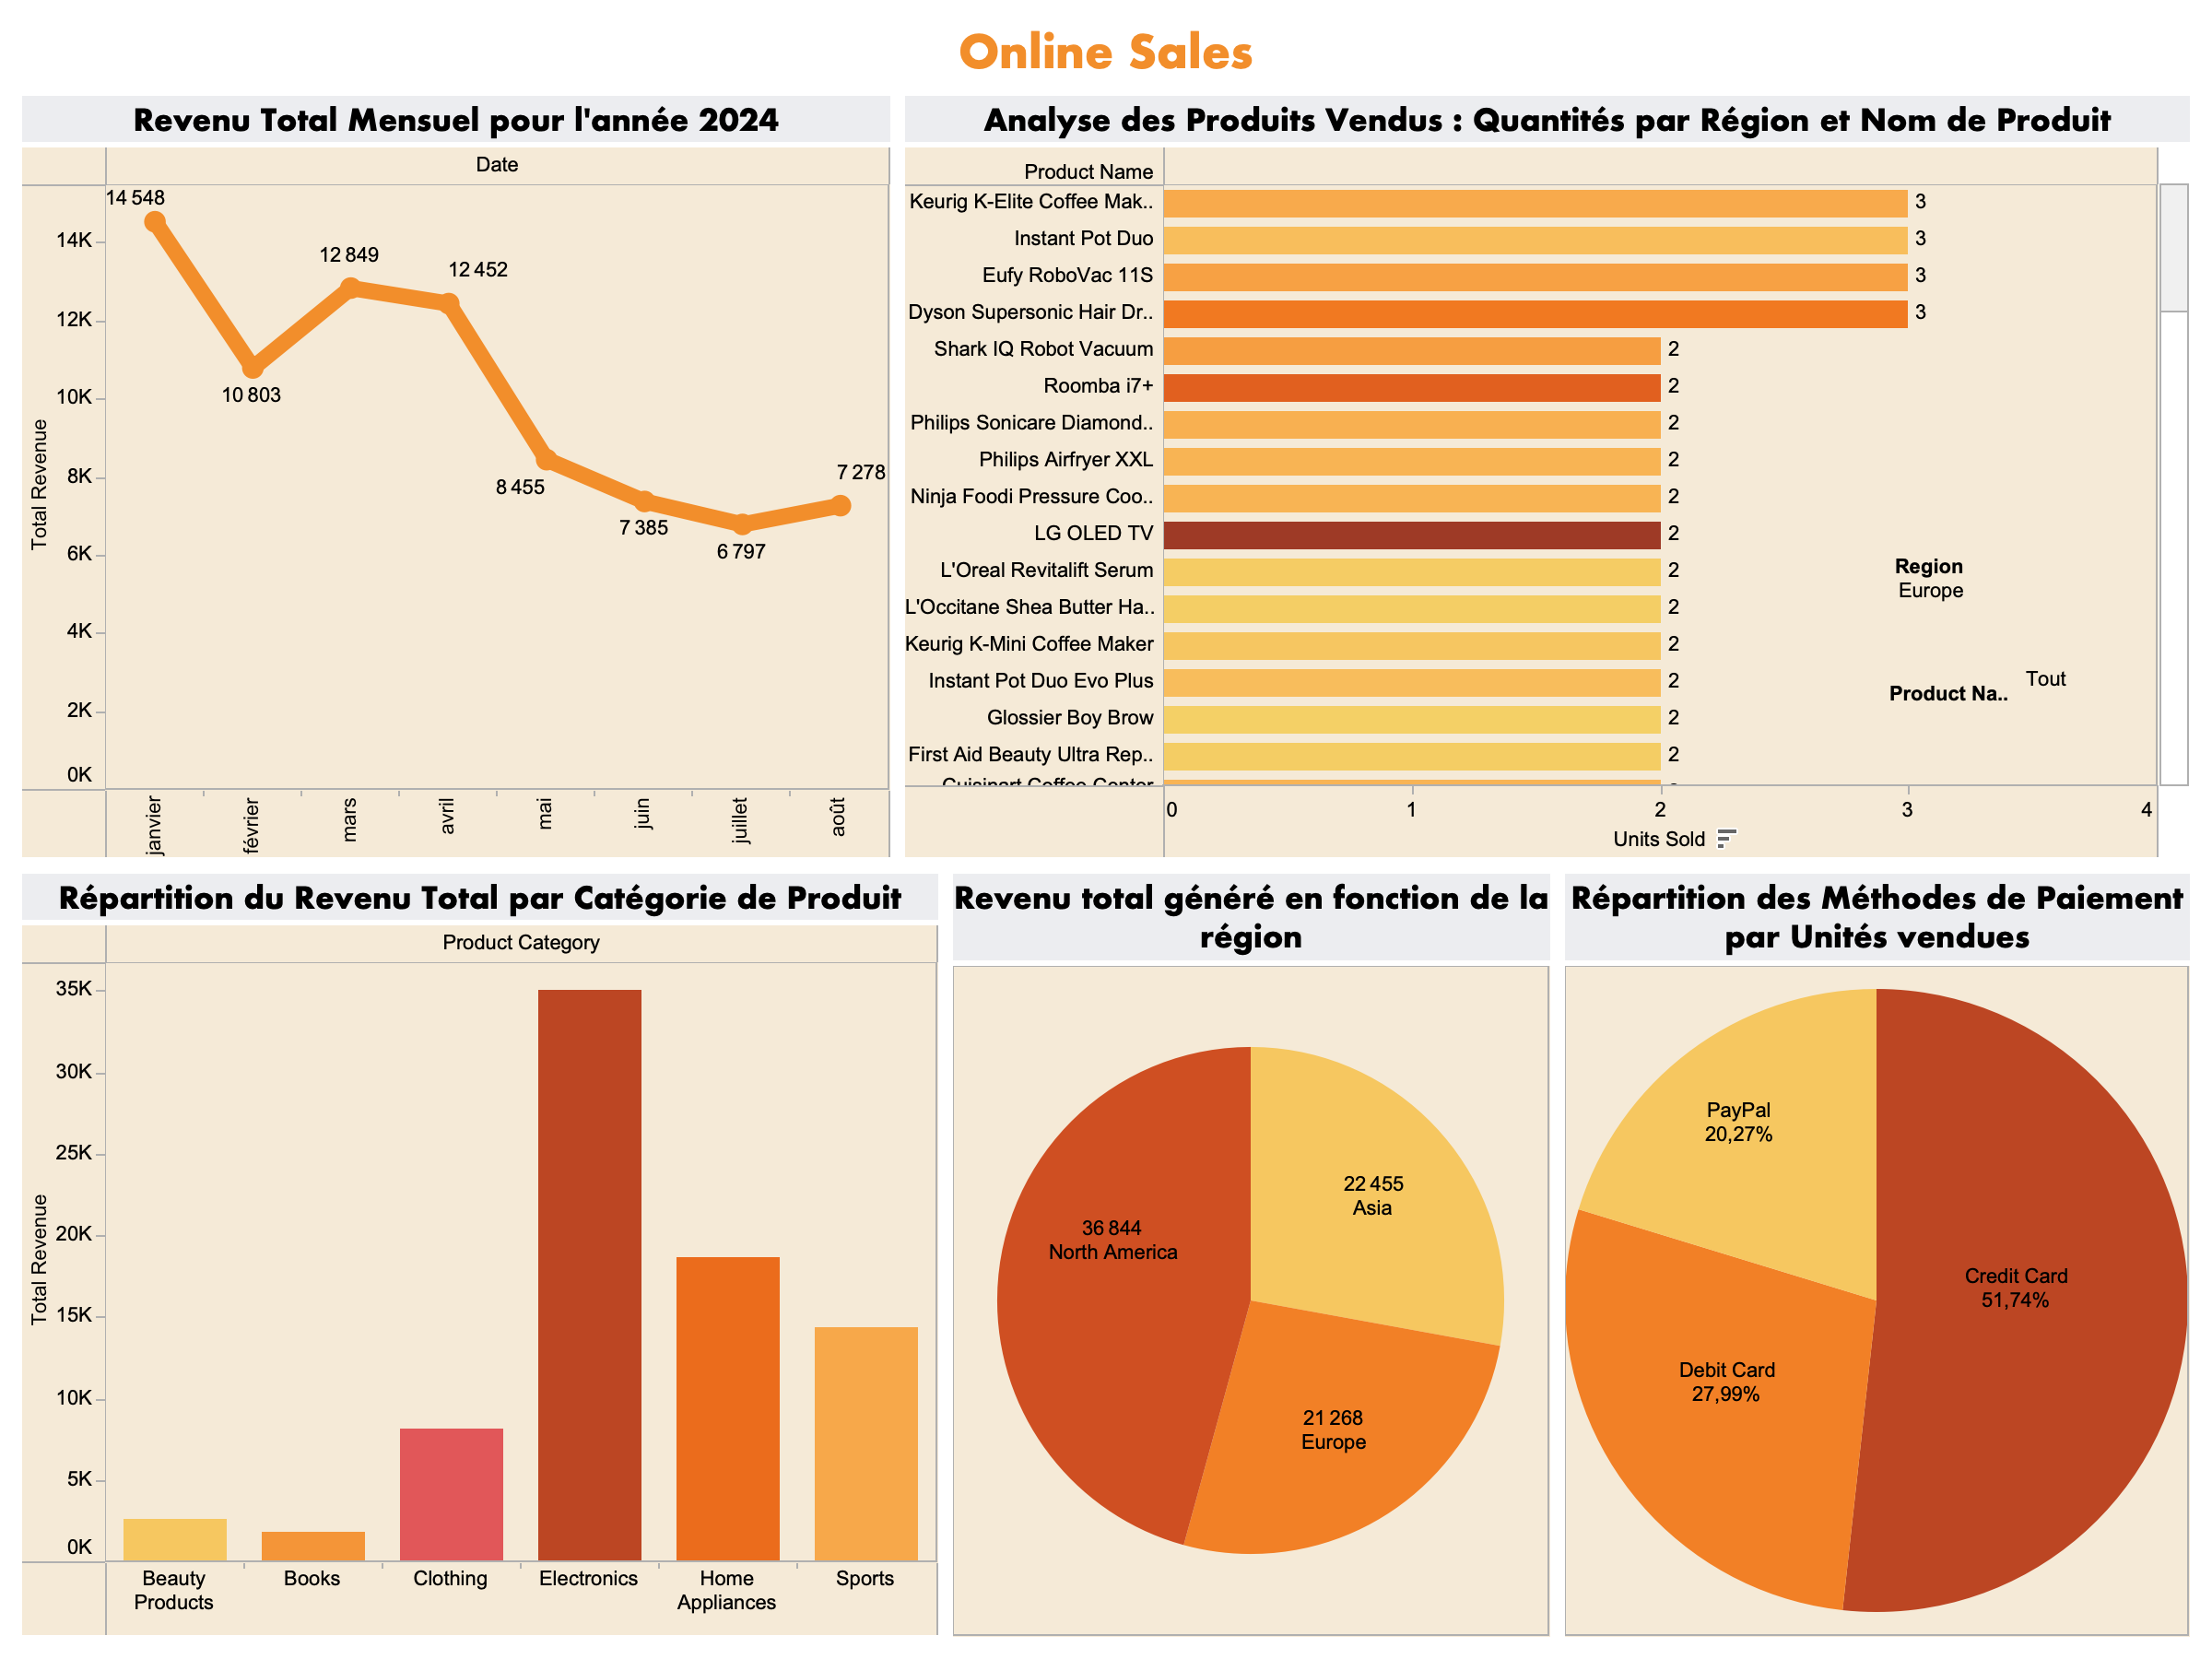

What the dashboard file says about the page in this screenshot:
{"tool":"tableau","page":{"name":"Dashboard","canvas":[1200,900],"ordinal":0},"visuals":[{"type":"title","box":[8,8,1184,40]},{"type":"worksheet","title":"1","mark":"Automatic","rows":["Total Revenue"],"cols":["Date"],"box":[8,48,479.5,422]},{"type":"worksheet","title":"4","mark":"Automatic","rows":["Product Name"],"cols":["Units Sold"],"box":[487.5,48,704.5,422]},{"type":"filter","title":"4","param":"[federated.1w3u5dv1oqaju415bhefn0jqtix6].[none:Region:nk]","box":[1028,300,125,51]},{"type":"filter","title":"4","param":"[federated.1w3u5dv1oqaju415bhefn0jqtix6].[none:Product Name:nk]","box":[1025,362,134,29]},{"type":"worksheet","title":"2","mark":"Automatic","rows":["Total Revenue"],"cols":["Product Category"],"box":[8,470,505,422]},{"type":"worksheet","title":"3","mark":"Pie","box":[513,470,332,422]},{"type":"worksheet","title":"5","mark":"Pie","box":[845,470,347,422]}]}

Visuals, with their boxes in screenshot pixels (x1, y1, x2, y2), scaled from the page's 1200x900 canvas onto the 2212x1659 screenshot:
title: Rect(15, 15, 2197, 88)
"1" worksheet: Rect(15, 88, 899, 866)
"4" worksheet: Rect(899, 88, 2197, 866)
"4" filter: Rect(1895, 553, 2125, 647)
"4" filter: Rect(1889, 667, 2136, 721)
"2" worksheet: Rect(15, 866, 946, 1644)
"3" worksheet (Pie marks): Rect(946, 866, 1558, 1644)
"5" worksheet (Pie marks): Rect(1558, 866, 2197, 1644)
